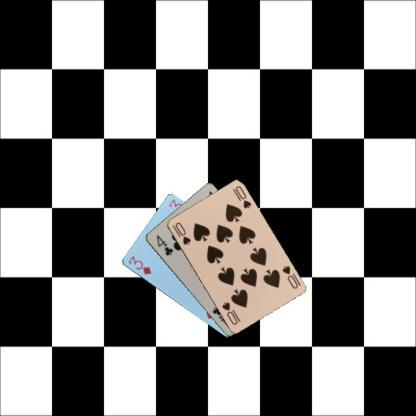10s: (170, 220, 192, 246), (279, 263, 299, 290)
3d: (126, 254, 152, 276)
4c: (154, 232, 174, 257)
